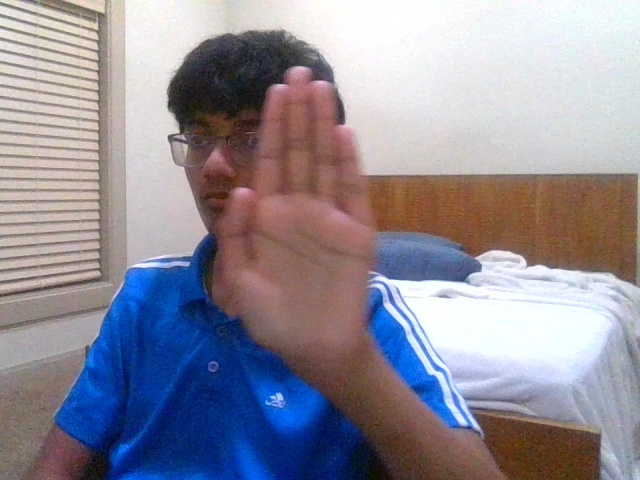hello: (218, 66, 376, 361)
